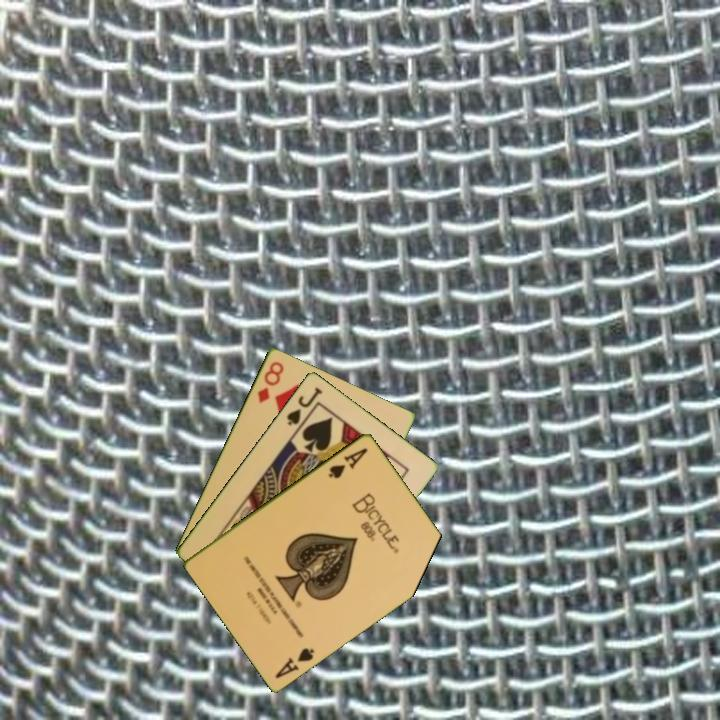8d: (253, 357, 287, 406)
As: (325, 443, 371, 481), (272, 643, 318, 681)
Js: (283, 383, 325, 428)
